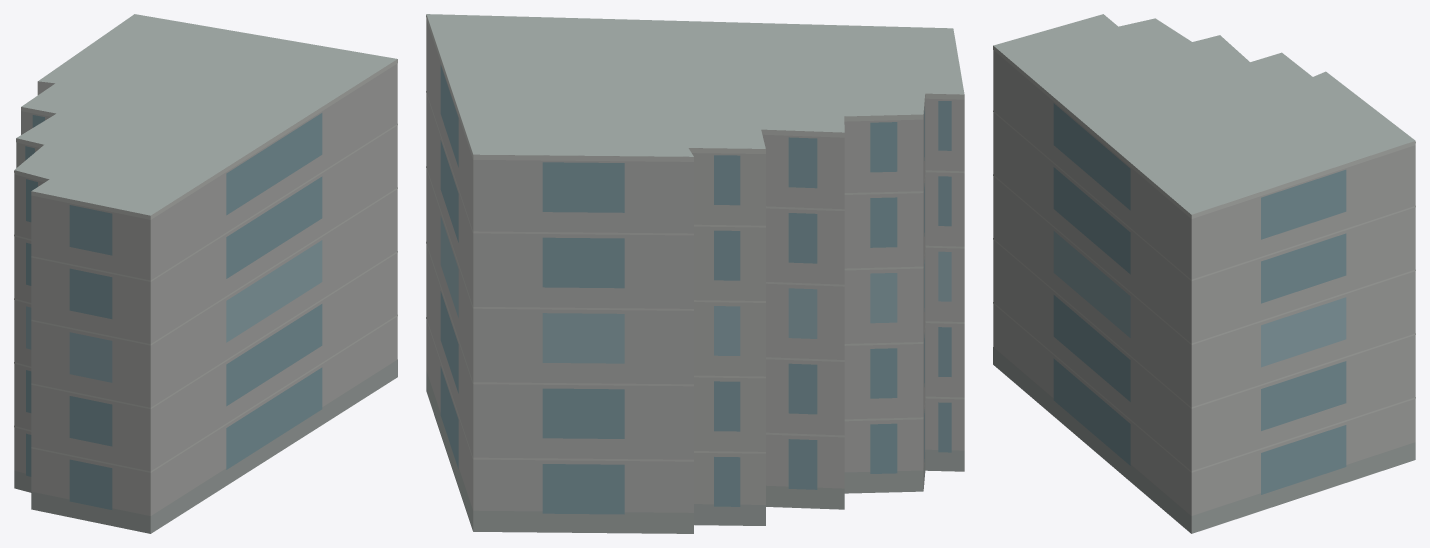
File: survey-upis-32475104.glb
3 renders of one model, left to right at view 1: azimuth 30°, elevation 25°; view 2: azimuth 150°, elevation 25°; view 3: azimuth 270°, elevation 25°, orthographic. The views are drawn at different scales.
Parts seen in each view (by area): view 1: survey-upis-32475104.tmp; view 2: survey-upis-32475104.tmp; view 3: survey-upis-32475104.tmp.
Boxes of the visible parts, box(x1,y1,x2,y2) form: survey-upis-32475104.tmp: box(14, 14, 397, 533); survey-upis-32475104.tmp: box(426, 14, 964, 533); survey-upis-32475104.tmp: box(993, 14, 1415, 533).
Size of the model in its own units: 24.31 by 18 by 21.62.
